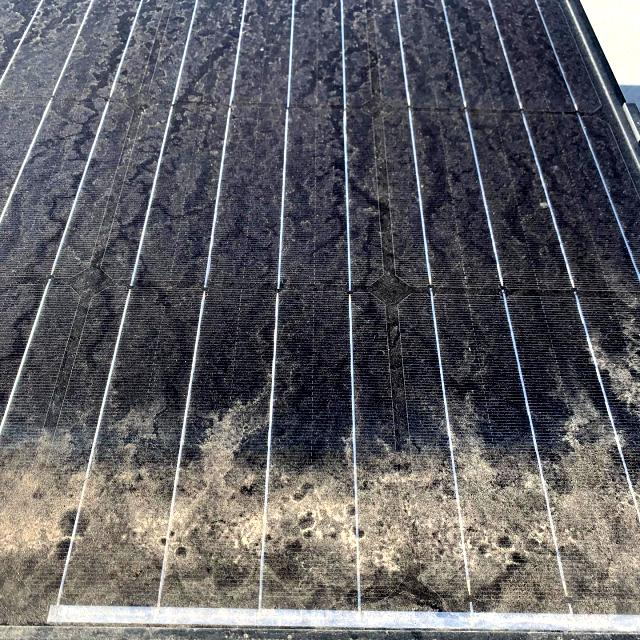dust: (310, 21, 562, 326), (42, 36, 276, 334), (232, 381, 452, 608), (15, 384, 204, 601), (473, 370, 640, 614)
